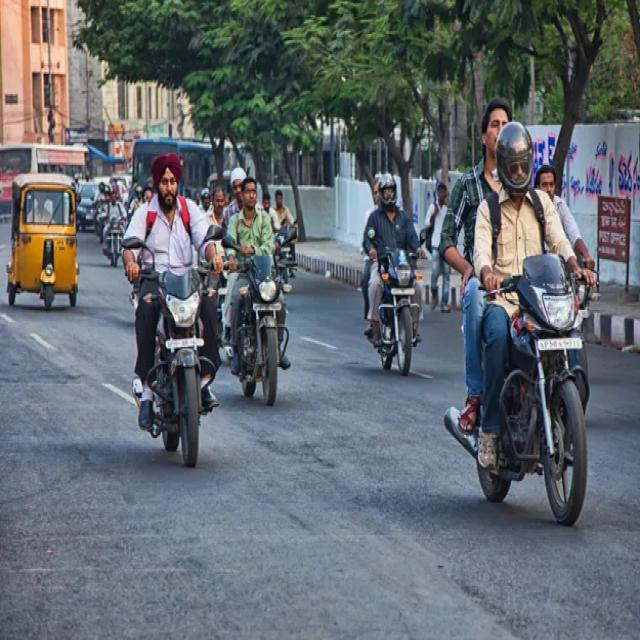Vehicles: (451, 264, 593, 563), (120, 236, 239, 469), (9, 166, 90, 331), (227, 232, 290, 423), (369, 218, 433, 374), (97, 211, 125, 271)
